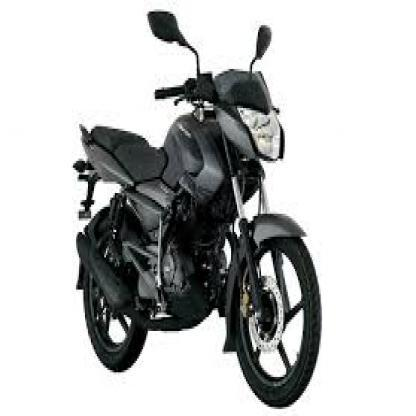Motorcycle: (60, 4, 323, 409)
